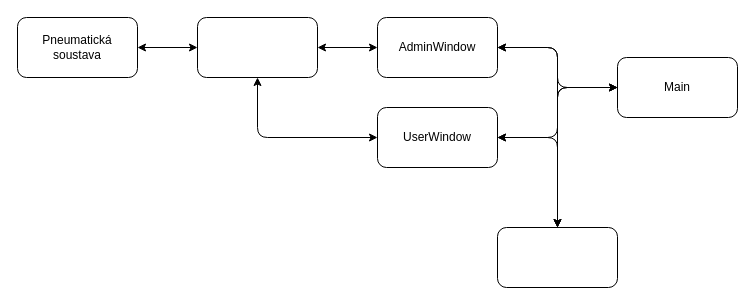
The diagram is 755 pixels wide and 305 high, and some of its shapes have lost their labels. Each missing label, with the box of its shape:
Database: (496, 226, 618, 288)
DeviceLoader: (196, 16, 318, 78)
